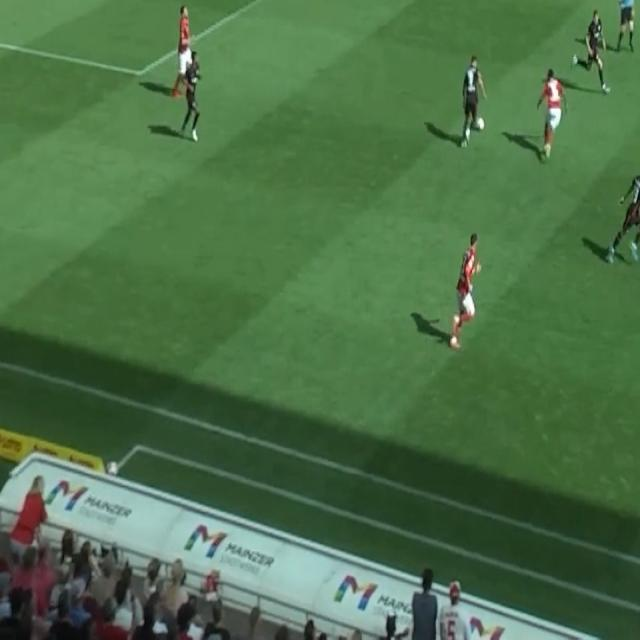ball: (476, 116, 486, 132)
